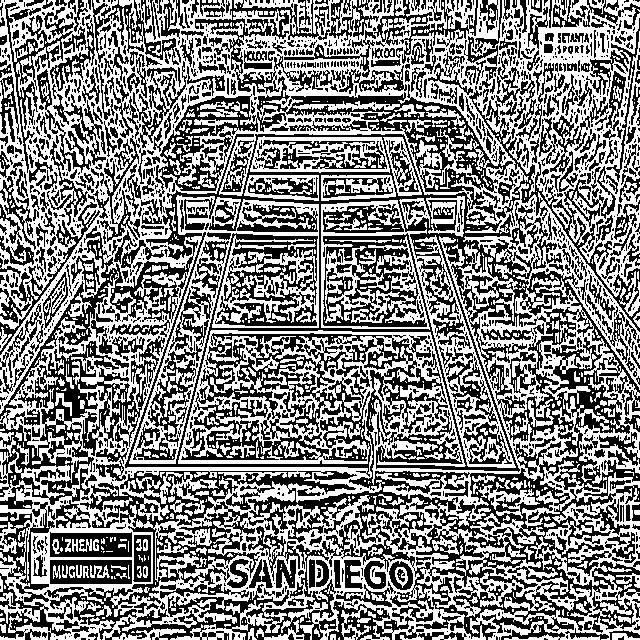left side: (382, 135, 518, 470), (125, 134, 258, 465)
player: (361, 375, 390, 490), (247, 84, 265, 134)
